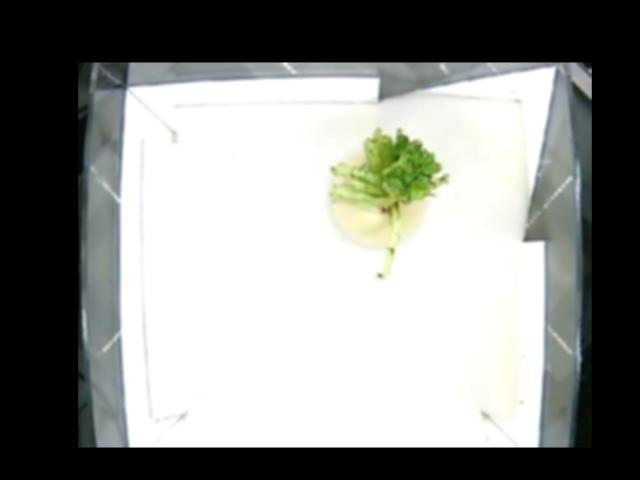Mooli: (328, 128, 448, 279)
